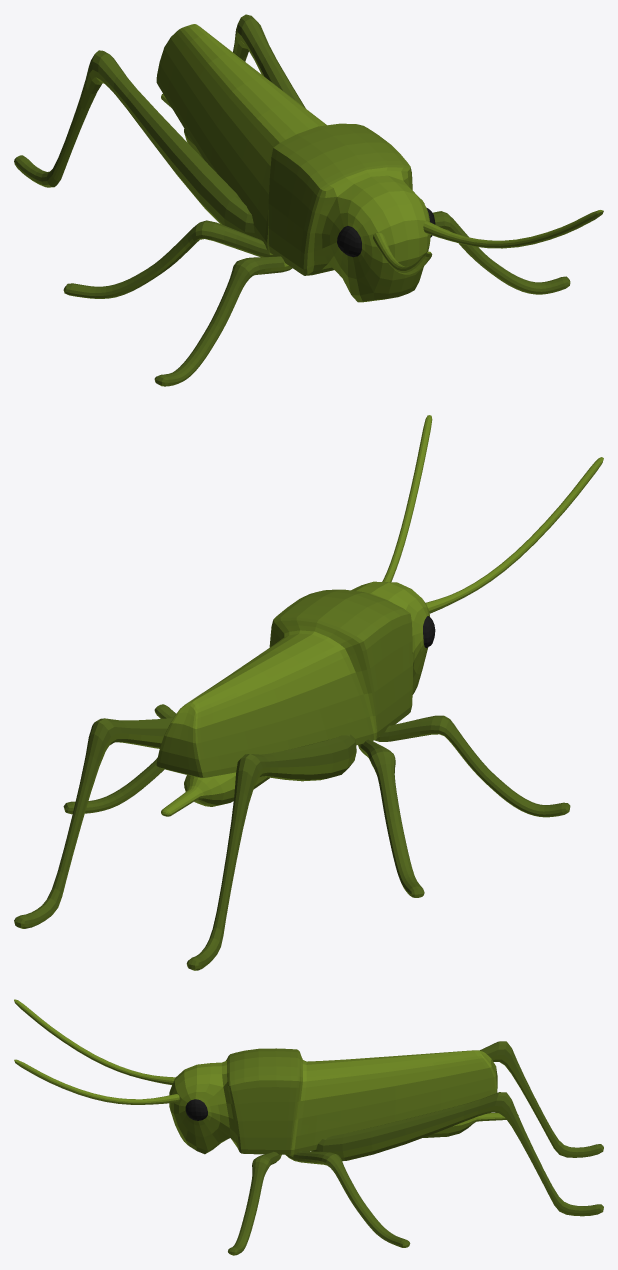
The model's file is ghopper.fbx.
3 renders of one model, top to bottom at view 1: azimuth 30°, elevation 25°; view 2: azimuth 150°, elevation 25°; view 3: azimuth 270°, elevation 25°, orthographic. The views are drawn at different scales.
Visible parts, largest first — view 1: grasshopper, legs; view 2: grasshopper, legs; view 3: grasshopper, legs.
Part boxes in pixels (box(x1,y1,x2,y2)): grasshopper: box(156, 24, 603, 302); legs: box(14, 14, 570, 386); grasshopper: box(156, 415, 603, 816); legs: box(14, 704, 570, 970); grasshopper: box(14, 999, 518, 1154); legs: box(228, 1041, 603, 1255).
Size of the model in its own units: 899 by 458 by 1551.
